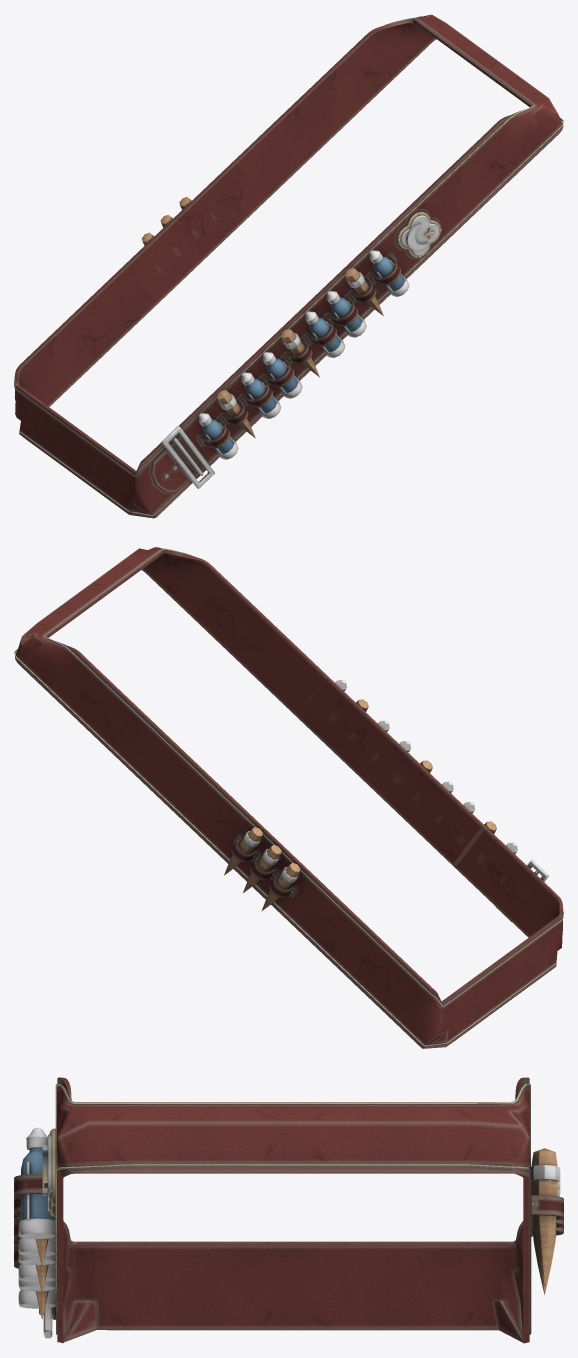
File: NHAcc_Bandolier.fbx
The picture shows the model from 3 angles, top to bottom: view 1: azimuth 30°, elevation 25°; view 2: azimuth 150°, elevation 25°; view 3: azimuth 270°, elevation 25°; orthographic projection. The views are drawn at different scales.
Visible parts, largest first — view 1: Bandolier; view 2: Bandolier; view 3: Bandolier.
Part boxes in pixels (box(x1,y1,x2,y2)): Bandolier: box(14, 14, 563, 518); Bandolier: box(14, 547, 563, 1048); Bandolier: box(14, 1077, 563, 1343).
Size of the model in its own units: 2.08 by 1.47 by 1.25.
